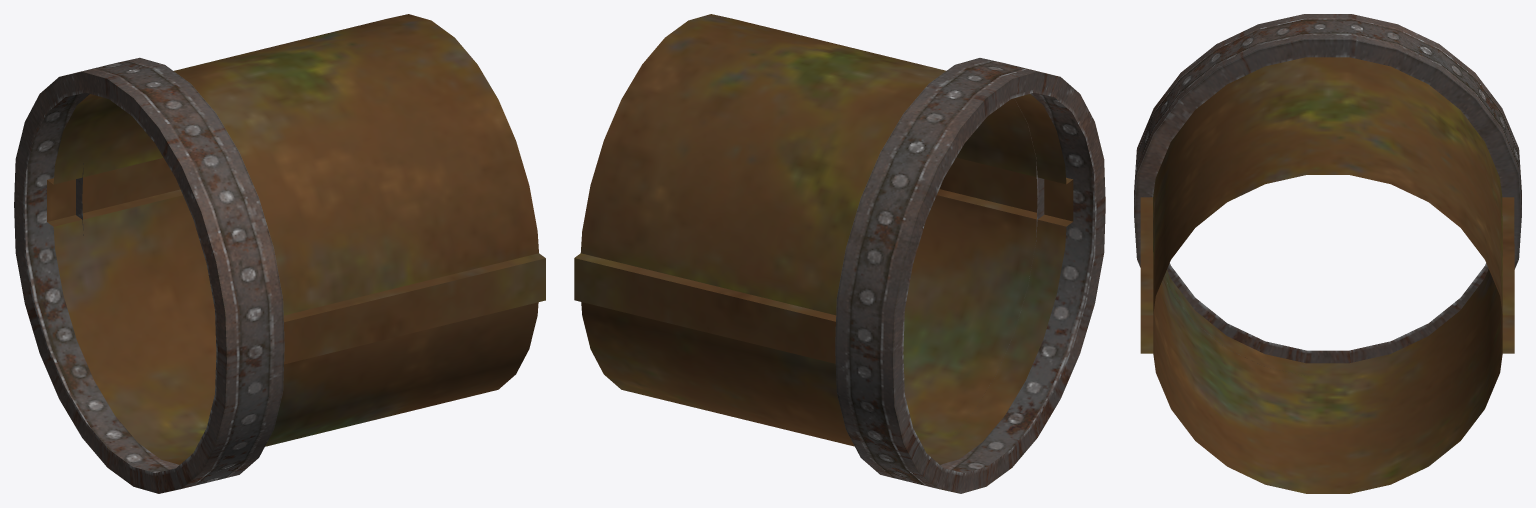
Rendered from pipe_1x2_02.fbx.
3 views of the same model, side by side, from view 1: azimuth 30°, elevation 25°; view 2: azimuth 150°, elevation 25°; view 3: azimuth 270°, elevation 25° (orthographic). The views are drawn at different scales.
Parts seen in each view (by area): view 1: pipe_1x2_02; view 2: pipe_1x2_02; view 3: pipe_1x2_02.
Boxes of the visible parts, x1,y1,x2,y2 form: pipe_1x2_02: [14, 14, 545, 493]; pipe_1x2_02: [574, 14, 1105, 493]; pipe_1x2_02: [1134, 14, 1521, 493].
Size of the model in its own units: 110 by 126 by 125.
